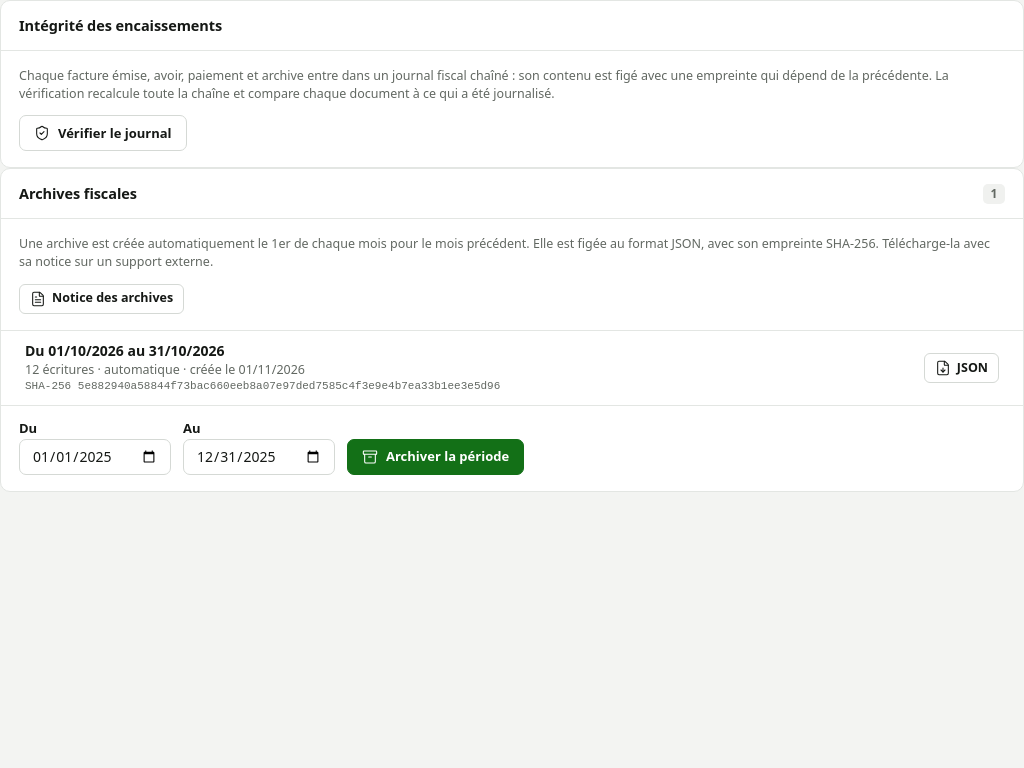
Test: Réglages › Conformité fiscale › anomalies : chacune listée avec son écriture et son document
The width and height of the screenshot is (1024, 768).
Click the button "Vérifier le journal": x=103, y=133 x1=19 y1=115 x2=186 y2=151
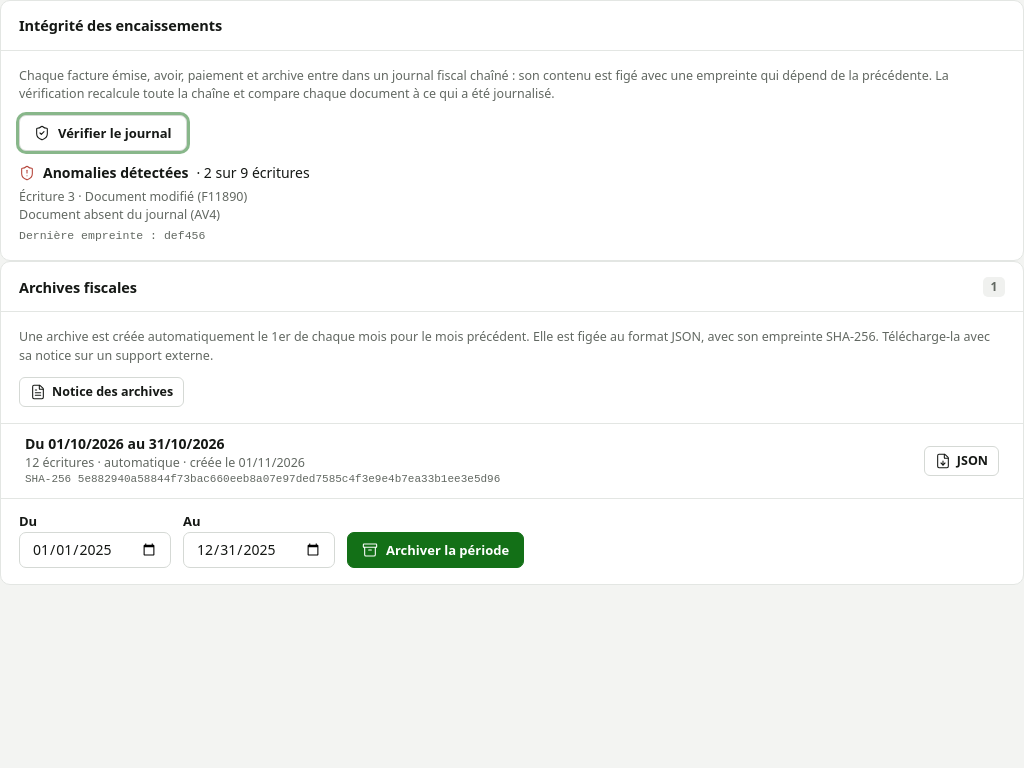
Expected: the message shows "Anomalies détectées · 2 sur 9 écritures", x1=19 y1=163 x2=310 y2=242
Expected: the list item "Écriture 3 · Document modifié (F11890)" is shown, x1=19 y1=188 x2=247 y2=204
Expected: the list item "Document absent du journal (AV4)" is shown, x1=19 y1=206 x2=220 y2=223
